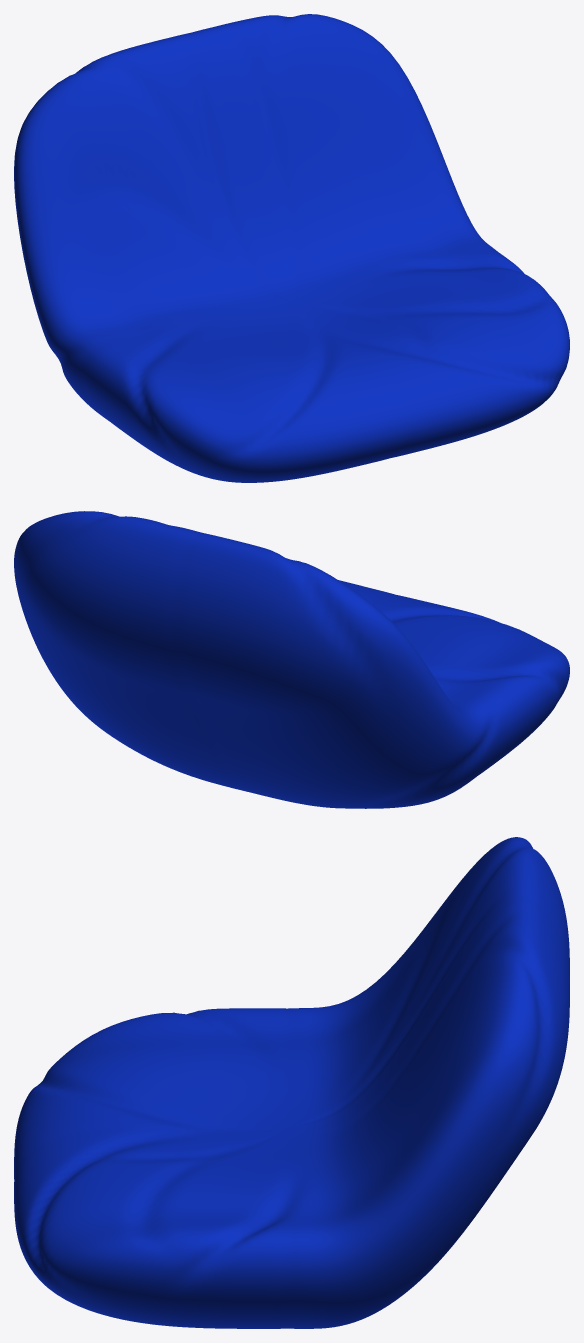
File: beanBag-3.glb
3 views of the same model, one above another, from view 1: azimuth 30°, elevation 25°; view 2: azimuth 150°, elevation 25°; view 3: azimuth 270°, elevation 25° (orthographic). The views are drawn at different scales.
Visible parts, largest first — view 1: beanBag_3_continuous_cloth; view 2: beanBag_3_continuous_cloth; view 3: beanBag_3_continuous_cloth.
Boxes of the visible parts, x1=… form: beanBag_3_continuous_cloth: x1=14, y1=14, x2=569, y2=482; beanBag_3_continuous_cloth: x1=14, y1=511, x2=569, y2=808; beanBag_3_continuous_cloth: x1=14, y1=837, x2=569, y2=1328.
Size of the model in its own units: 1.02 by 0.7 by 0.98.
